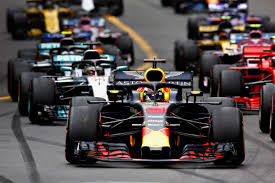FormulaOneCar: (63, 57, 249, 171), (17, 42, 135, 126)
